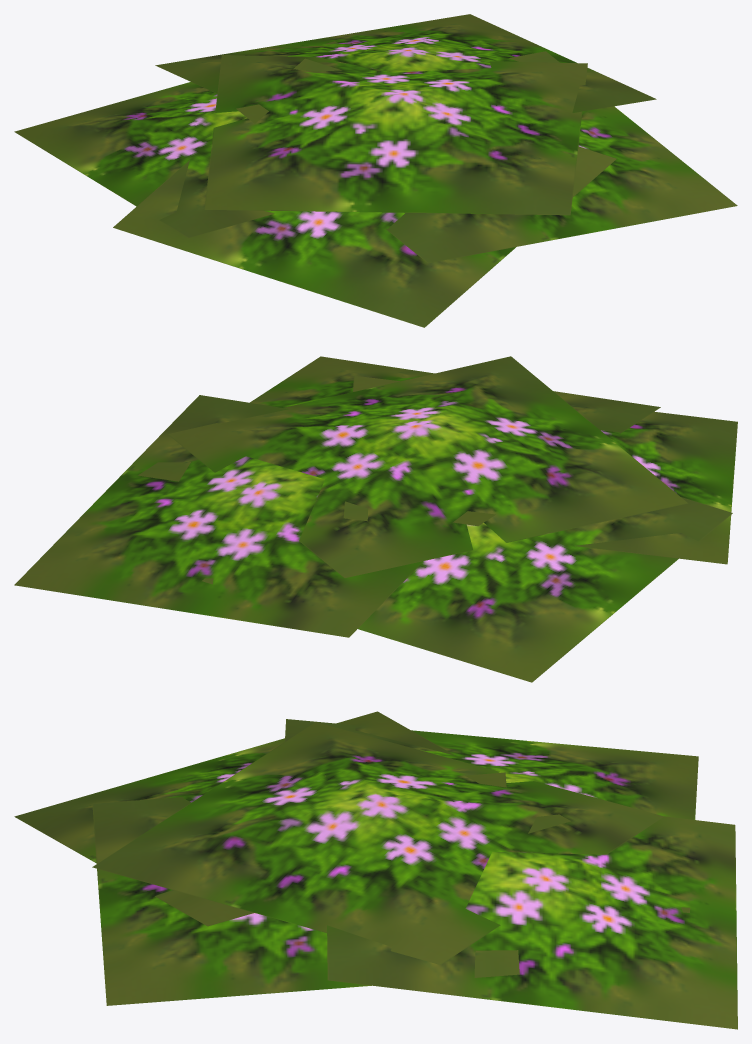
Rendered from sb_obj_nature004_Flower03b.fbx.
The picture shows the model from 3 angles, top to bottom: view 1: azimuth 30°, elevation 25°; view 2: azimuth 150°, elevation 25°; view 3: azimuth 270°, elevation 25°; orthographic projection. The views are drawn at different scales.
Visible parts, largest first — view 1: sb_obj_nature004_Flower03a; view 2: sb_obj_nature004_Flower03a; view 3: sb_obj_nature004_Flower03a.
Boxes of the visible parts, x1=… form: sb_obj_nature004_Flower03a: x1=14, y1=14, x2=737, y2=327; sb_obj_nature004_Flower03a: x1=14, y1=356, x2=737, y2=682; sb_obj_nature004_Flower03a: x1=14, y1=711, x2=737, y2=1029.
Bounding box in the file's own units: 1.62 × 0.2731 × 1.72.
